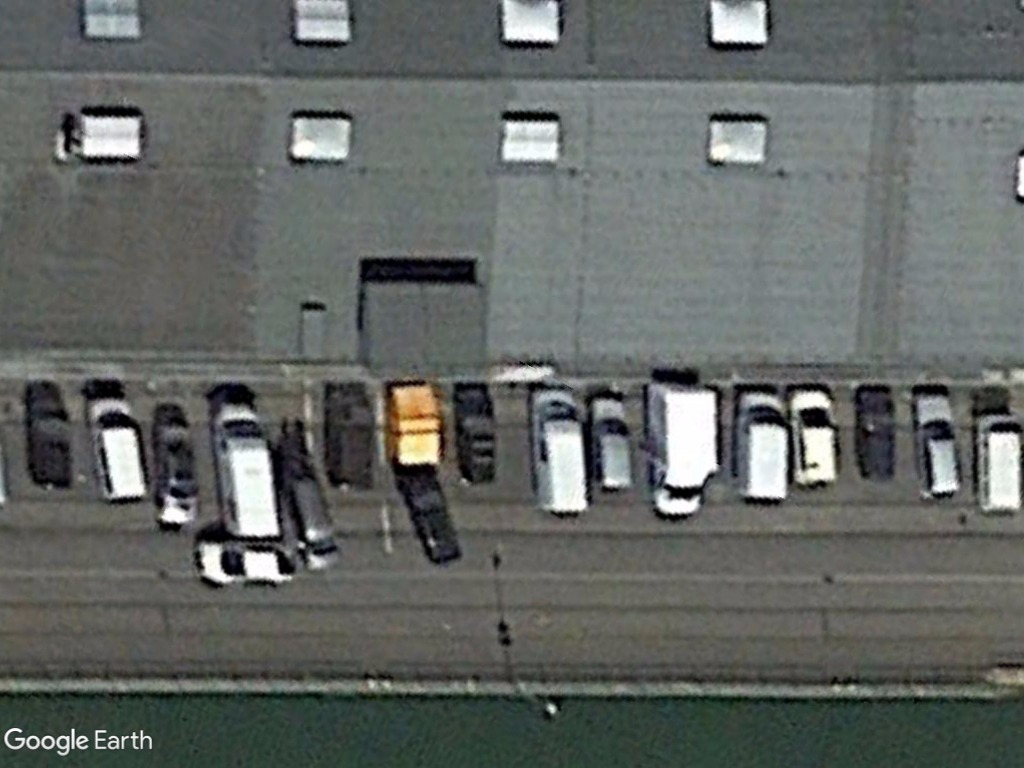car: (907, 387, 967, 505)
truck: (642, 380, 727, 529)
van: (204, 396, 286, 546), (524, 381, 593, 526), (83, 393, 155, 505), (733, 383, 790, 507)
